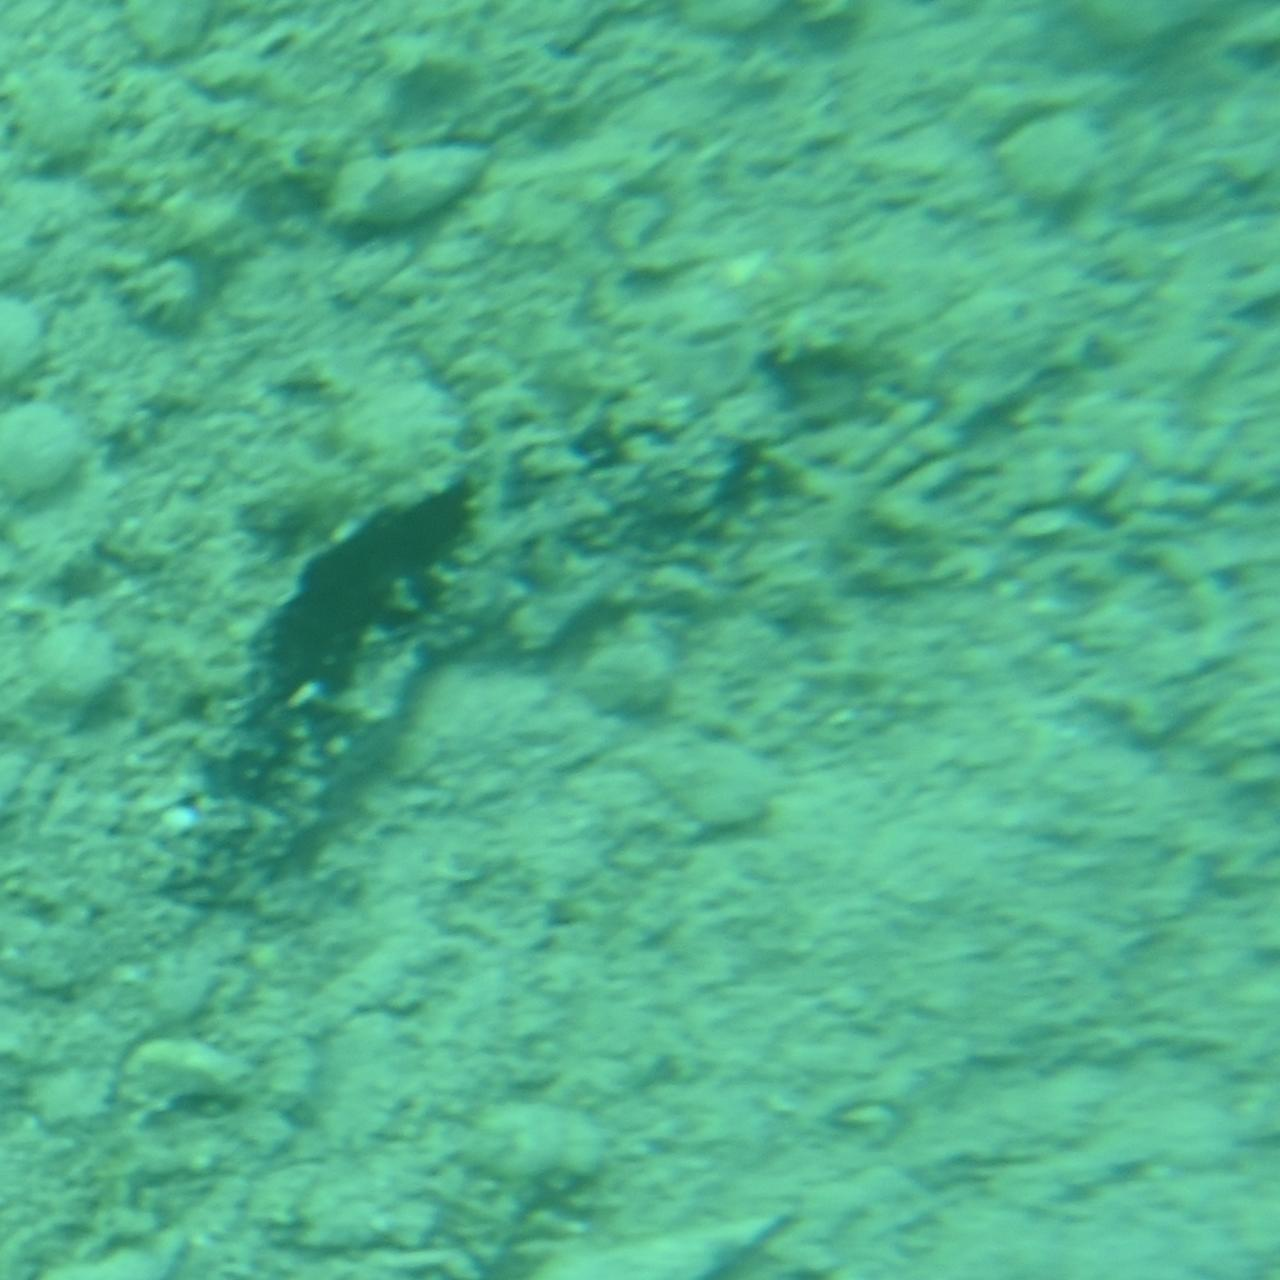Holothuria tubulosa: (158, 354, 1122, 926)
